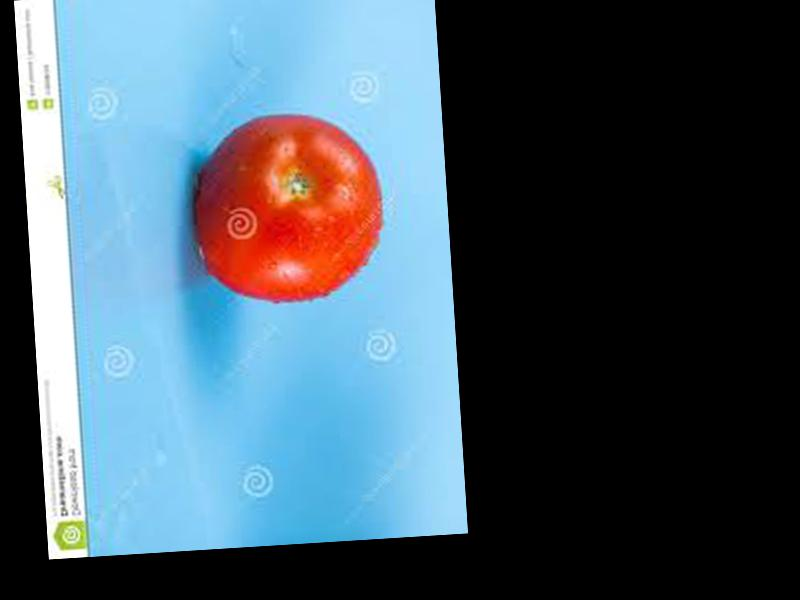Tomato: (190, 106, 387, 307)
